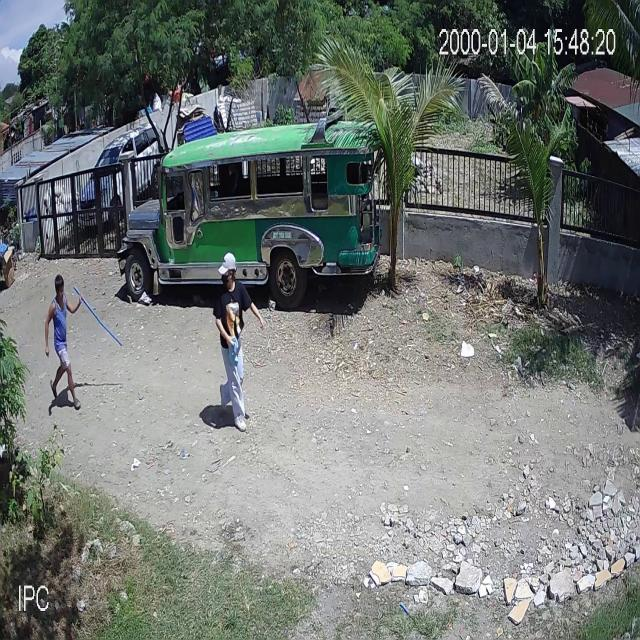running: (45, 276, 121, 409)
walking: (213, 250, 265, 431)
